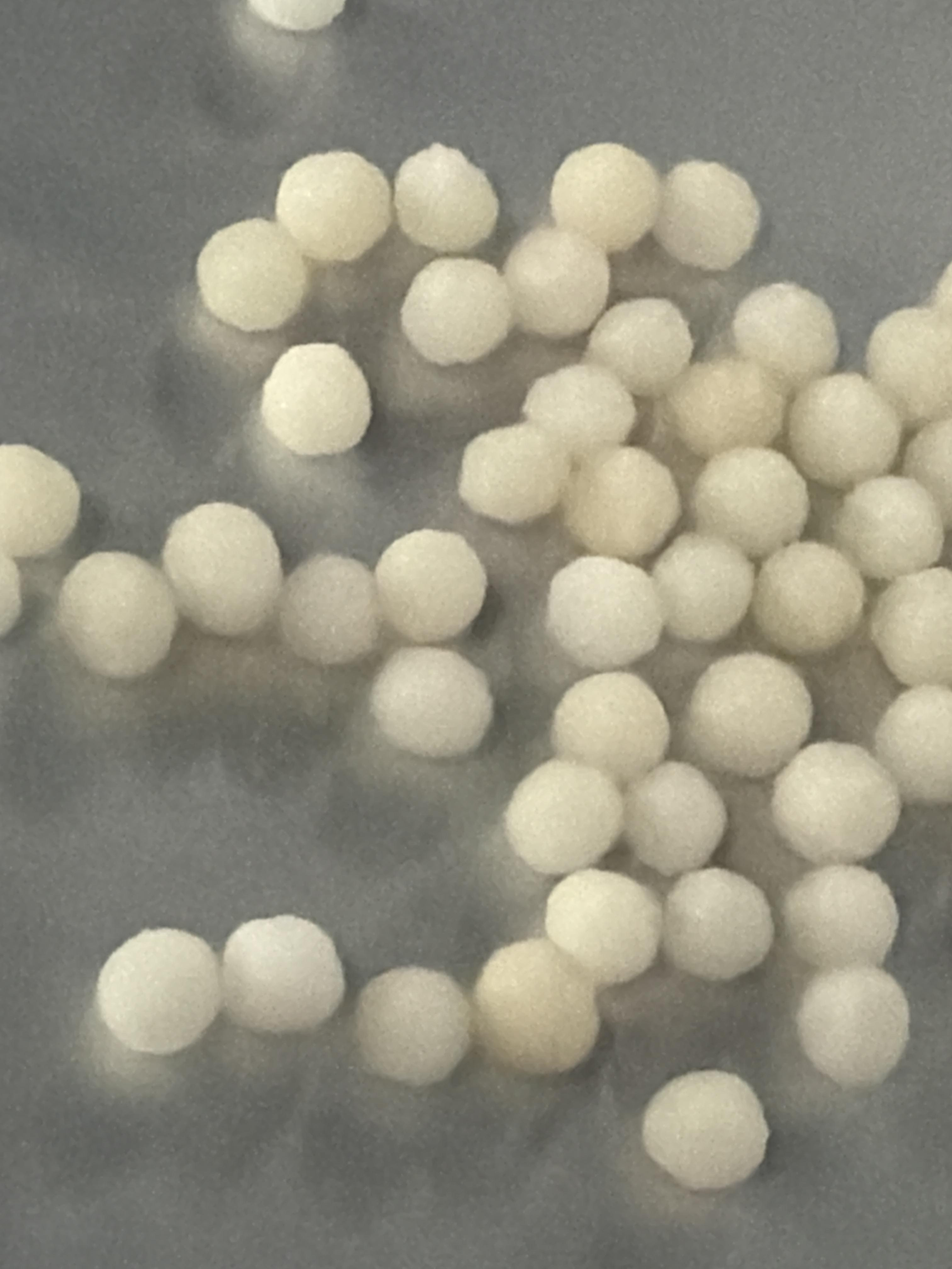pill: (474, 939, 600, 1075), (162, 503, 282, 637), (96, 928, 222, 1055), (685, 653, 812, 779), (772, 742, 901, 865), (56, 552, 178, 679), (642, 1070, 769, 1191), (222, 915, 345, 1033), (354, 967, 472, 1087), (504, 759, 623, 875), (796, 966, 909, 1087), (551, 671, 670, 785), (371, 647, 492, 758), (545, 870, 662, 984), (564, 446, 681, 560), (546, 556, 663, 670), (788, 372, 902, 488), (275, 150, 392, 262), (691, 448, 809, 559), (196, 219, 309, 333), (374, 529, 487, 643), (662, 868, 774, 981), (753, 542, 864, 655), (260, 343, 371, 456), (502, 226, 610, 339), (400, 258, 512, 366), (666, 356, 785, 457), (550, 143, 660, 252), (783, 865, 898, 968), (624, 762, 727, 876), (654, 161, 760, 271), (833, 475, 944, 580), (458, 422, 571, 525), (394, 144, 498, 254), (278, 555, 381, 665), (732, 282, 839, 387), (652, 533, 755, 642), (586, 298, 693, 396), (523, 363, 636, 454), (866, 307, 952, 425), (870, 567, 952, 686), (874, 685, 952, 803), (0, 444, 80, 559), (902, 419, 952, 529), (248, 0, 345, 32), (0, 552, 22, 637)
